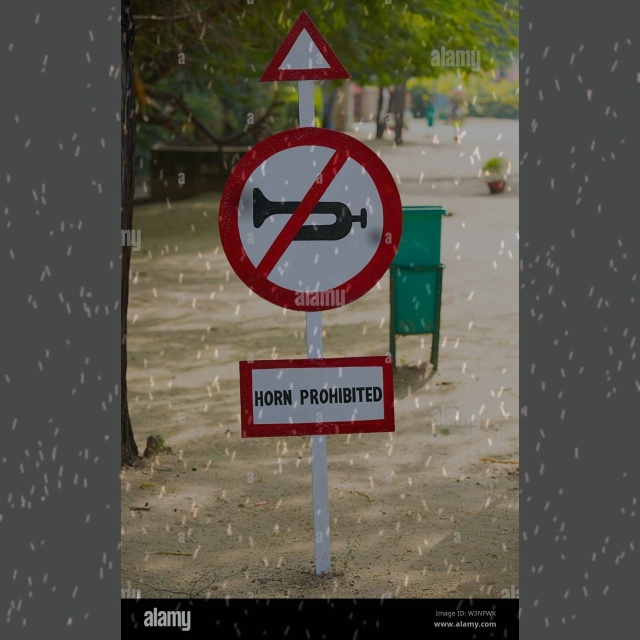Horn_Prohibited: (224, 129, 399, 314)
